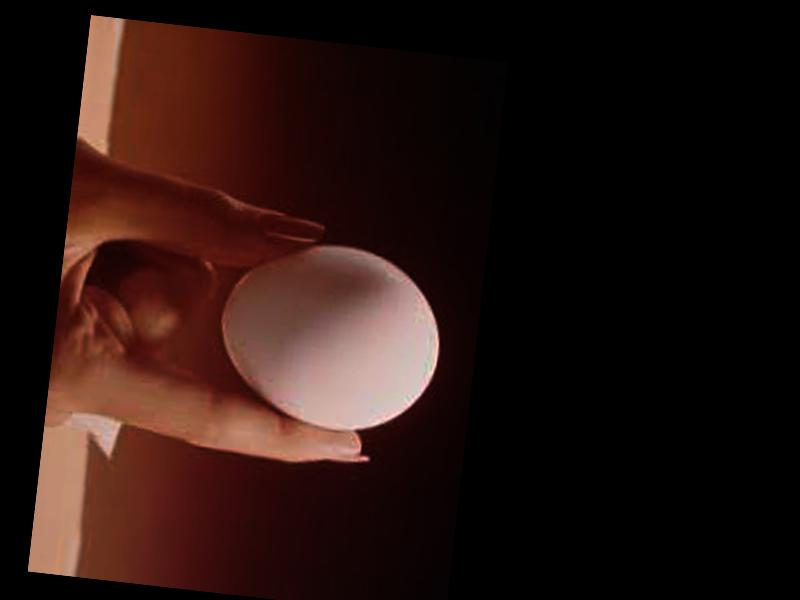Eggs: (209, 232, 450, 442)
